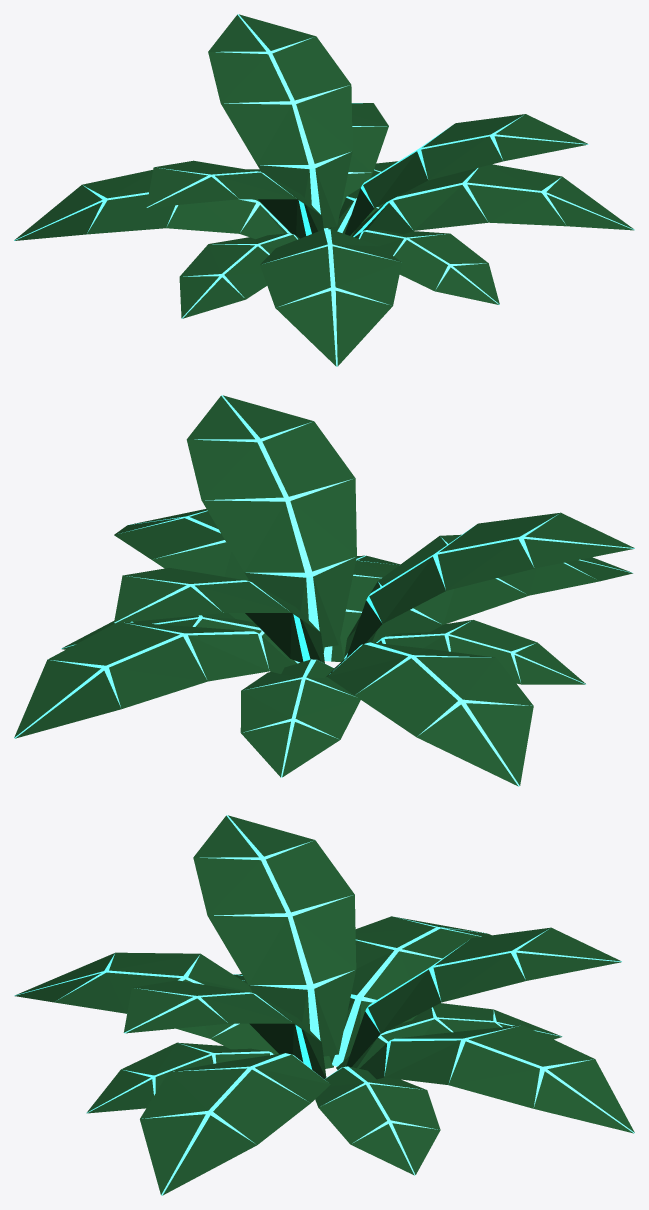
File: SM_VeinLeaf_Cluster.fbx
The picture shows the model from 3 angles, top to bottom: view 1: azimuth 30°, elevation 25°; view 2: azimuth 150°, elevation 25°; view 3: azimuth 270°, elevation 25°; orthographic projection. The views are drawn at different scales.
Visible parts, largest first — view 1: SM_VeinLeaf_Cluster; view 2: SM_VeinLeaf_Cluster; view 3: SM_VeinLeaf_Cluster.
Boxes of the visible parts, <box> form: SM_VeinLeaf_Cluster: <box>14,14,634,366</box>; SM_VeinLeaf_Cluster: <box>14,395,634,786</box>; SM_VeinLeaf_Cluster: <box>14,815,634,1195</box>.
Bounding box in the file's own units: 111 × 28.12 × 111.
